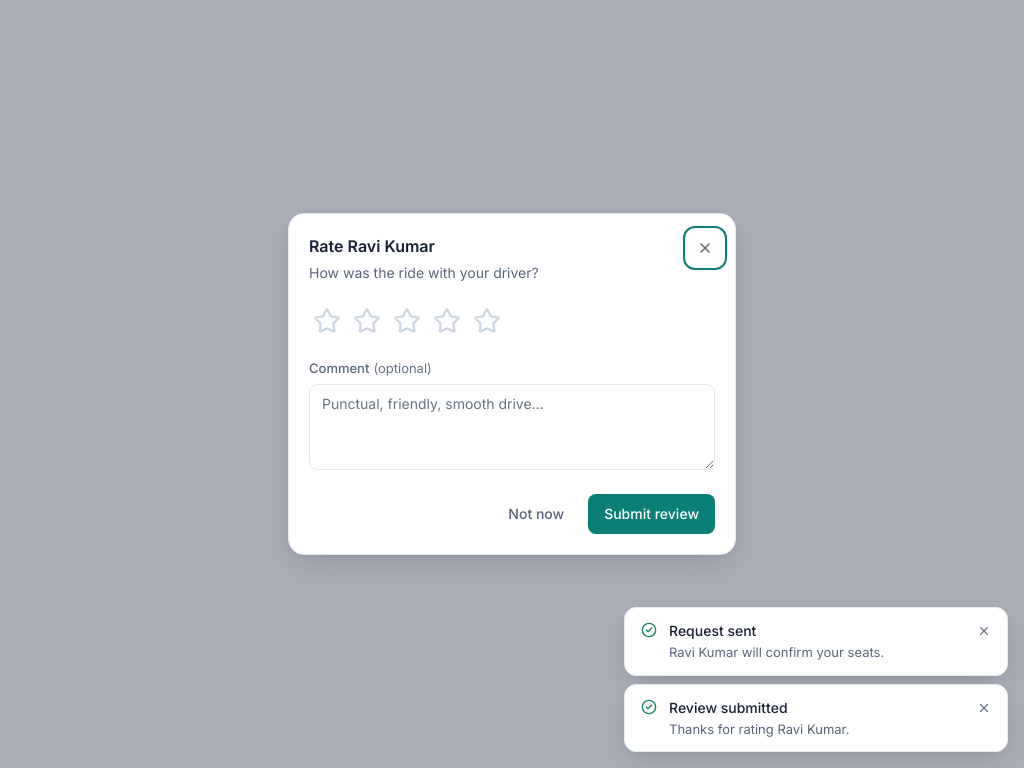
Test: review submission › surfaces duplicate-review errors from the backend
Step 1. Click the radio button named "5 stars" → click(487, 321), box [469,303,505,339]
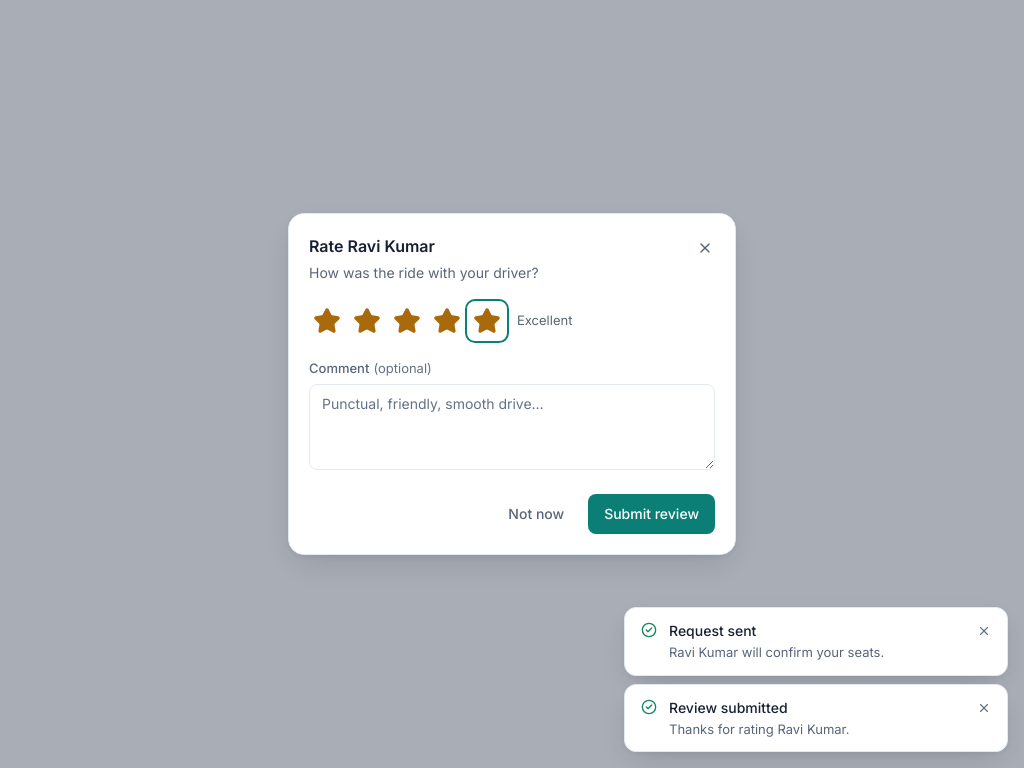
Step 2. Click the button "Submit review" → click(652, 514), box [588,494,715,534]
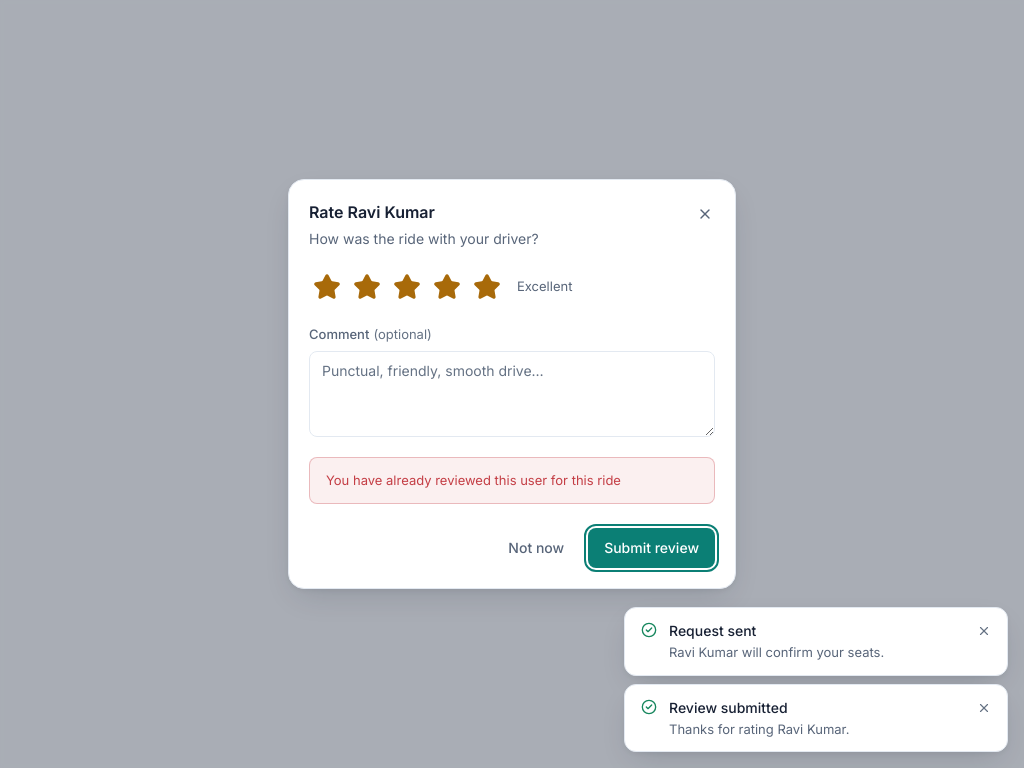
Now the text "You have already reviewed this user for this ride" is shown, box [309,457,715,504]
